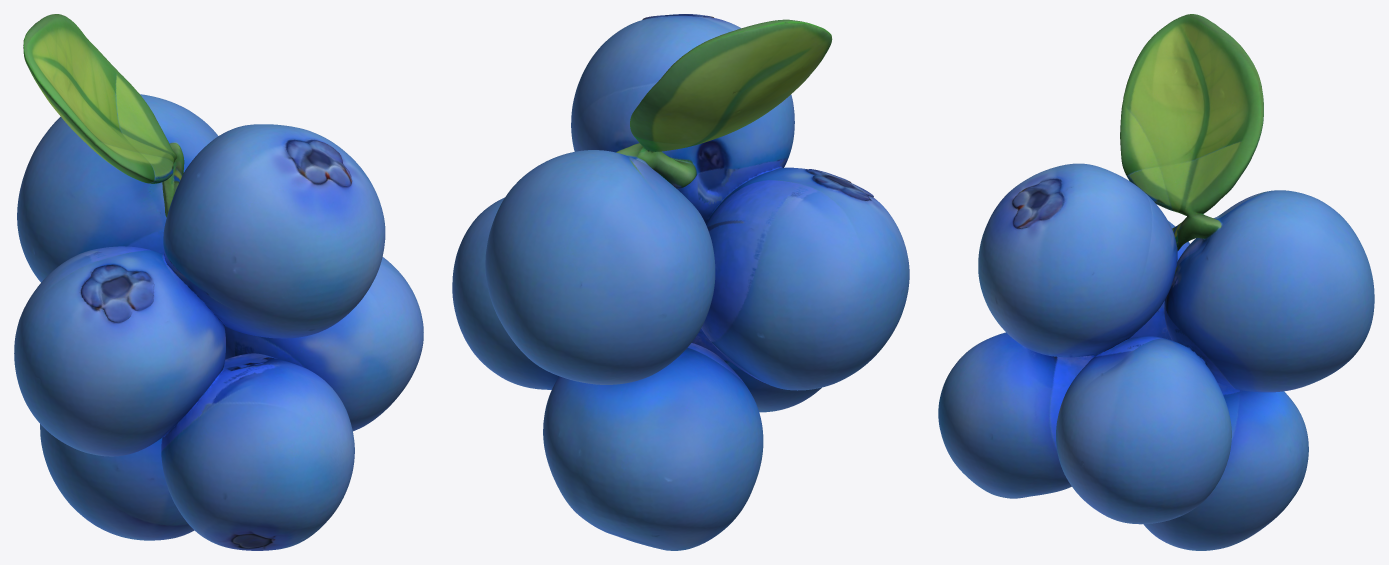
File: berry.glb
The picture shows the model from 3 angles, left to right: view 1: azimuth 30°, elevation 25°; view 2: azimuth 150°, elevation 25°; view 3: azimuth 270°, elevation 25°; orthographic projection. The views are drawn at different scales.
Size of the model in its own units: 1.57 by 1.99 by 1.67.
1 material, 1 textured.
